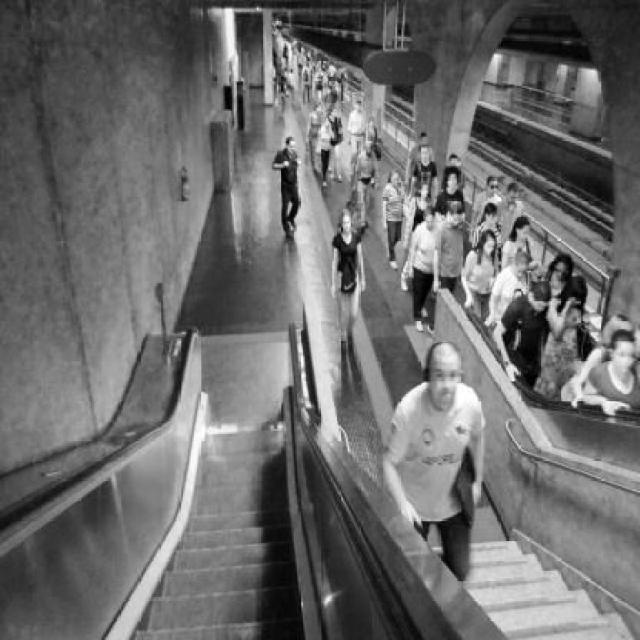stair: (124, 420, 304, 640), (427, 537, 640, 640)
